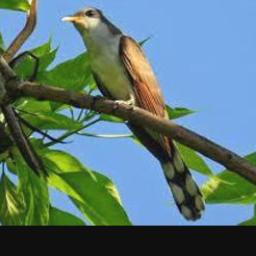Cuckoo: (60, 7, 206, 222)
